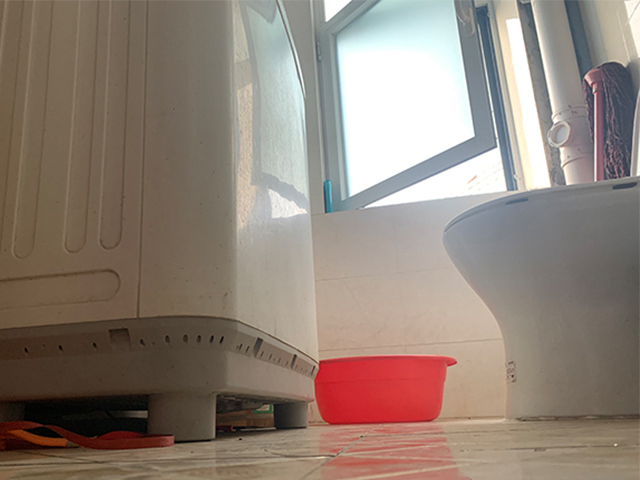closestool: (442, 88, 640, 419)
